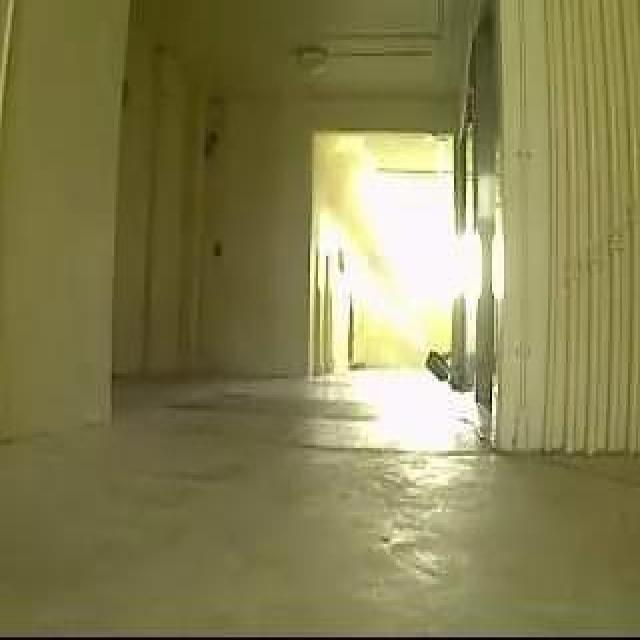Smoke: (306, 129, 352, 223)
